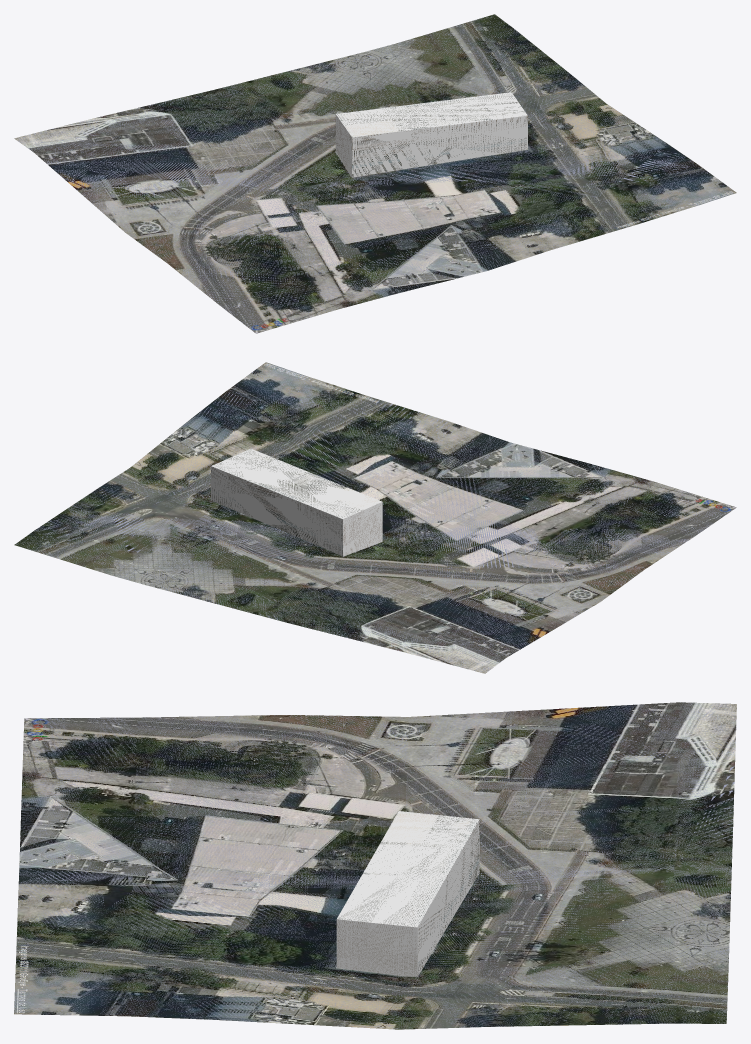
File: anexo alep.fbx
3 renders of one model, top to bottom at view 1: azimuth 30°, elevation 25°; view 2: azimuth 150°, elevation 25°; view 3: azimuth 270°, elevation 25°, orthographic. The views are drawn at different scales.
Visible parts, largest first — view 1: Google_Earth_Terrain, Model; view 2: Google_Earth_Terrain, Model; view 3: Google_Earth_Terrain, Model.
Part boxes in pixels (x1,y1,x2,y2): Google_Earth_Terrain: (14, 14, 736, 333); Model: (335, 92, 527, 177); Google_Earth_Terrain: (14, 362, 736, 673); Model: (211, 448, 382, 556); Google_Earth_Terrain: (14, 702, 736, 1029); Model: (336, 811, 479, 976).
Bounding box in the file's own units: 225 × 20.47 × 203.
